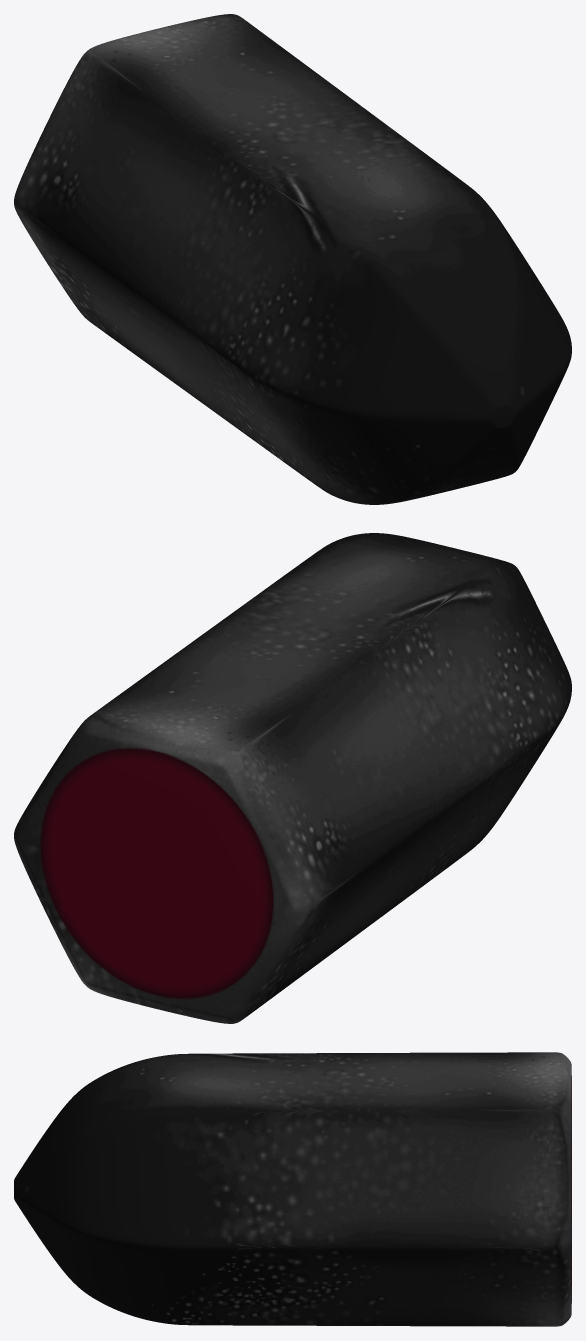
3 renders of one model, top to bottom at view 1: azimuth 30°, elevation 25°; view 2: azimuth 150°, elevation 25°; view 3: azimuth 270°, elevation 25°, orthographic. The views are drawn at different scales.
Visible parts, largest first — view 1: 12950_Stone_Chess_Pawn_Side_B; view 2: 12950_Stone_Chess_Pawn_Side_B; view 3: 12950_Stone_Chess_Pawn_Side_B.
Part boxes in pixels (x1,y1,x2,y2): 12950_Stone_Chess_Pawn_Side_B: [14, 14, 571, 504]; 12950_Stone_Chess_Pawn_Side_B: [14, 533, 571, 1023]; 12950_Stone_Chess_Pawn_Side_B: [14, 1052, 571, 1326].
Size of the model in its own units: 2.42 by 2.15 by 4.92.
Materials: 1 (1 with a texture image).
